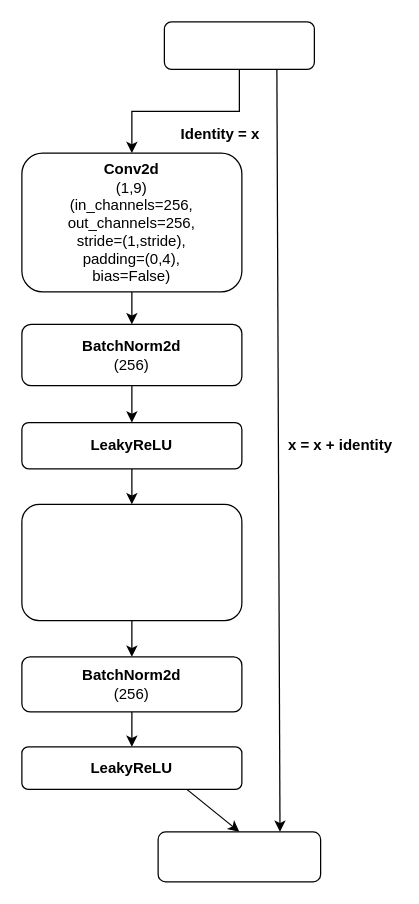
Image size: 419x904. Some labels were removed from this diagram. Here are the shapes that lost their labels. From the top down, the box of each, then its label:
(163, 21, 314, 69): Input Tensor
(21, 503, 242, 621): Conv2d (1,9) (in_channels=256, out_channels=256, padding=(0,4), bias=False)
(157, 831, 321, 882): Output Tensor
